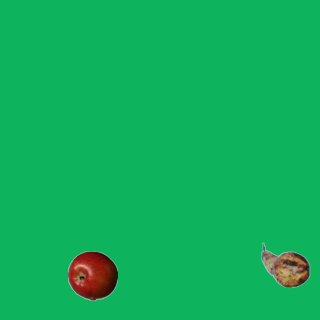Apple Braeburn: (67, 250, 117, 300)
Pear Abate: (260, 240, 310, 290)
